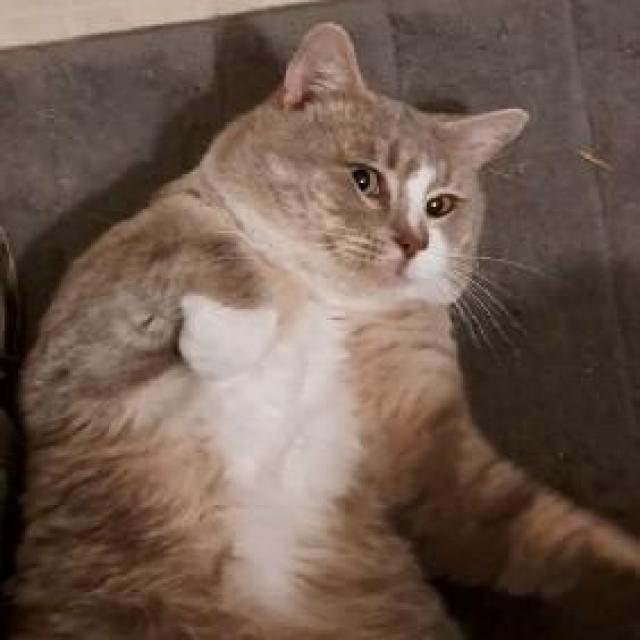american_shorthair_cat: (198, 16, 533, 312)
